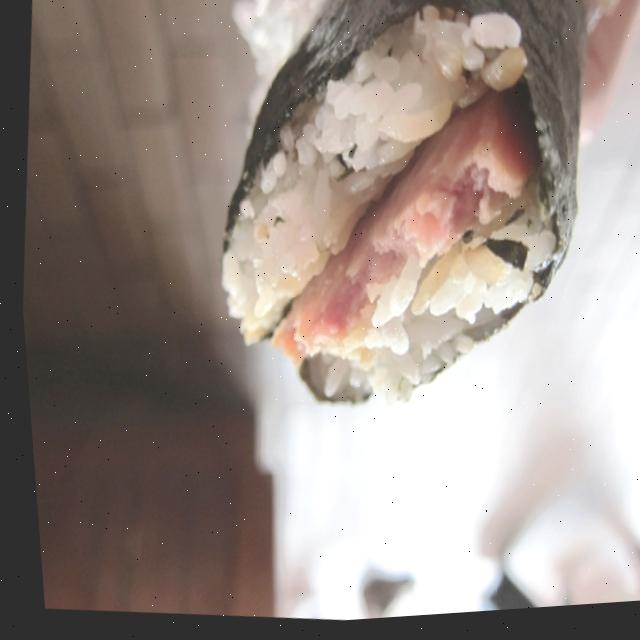寿司卷物: (151, 0, 640, 474)
